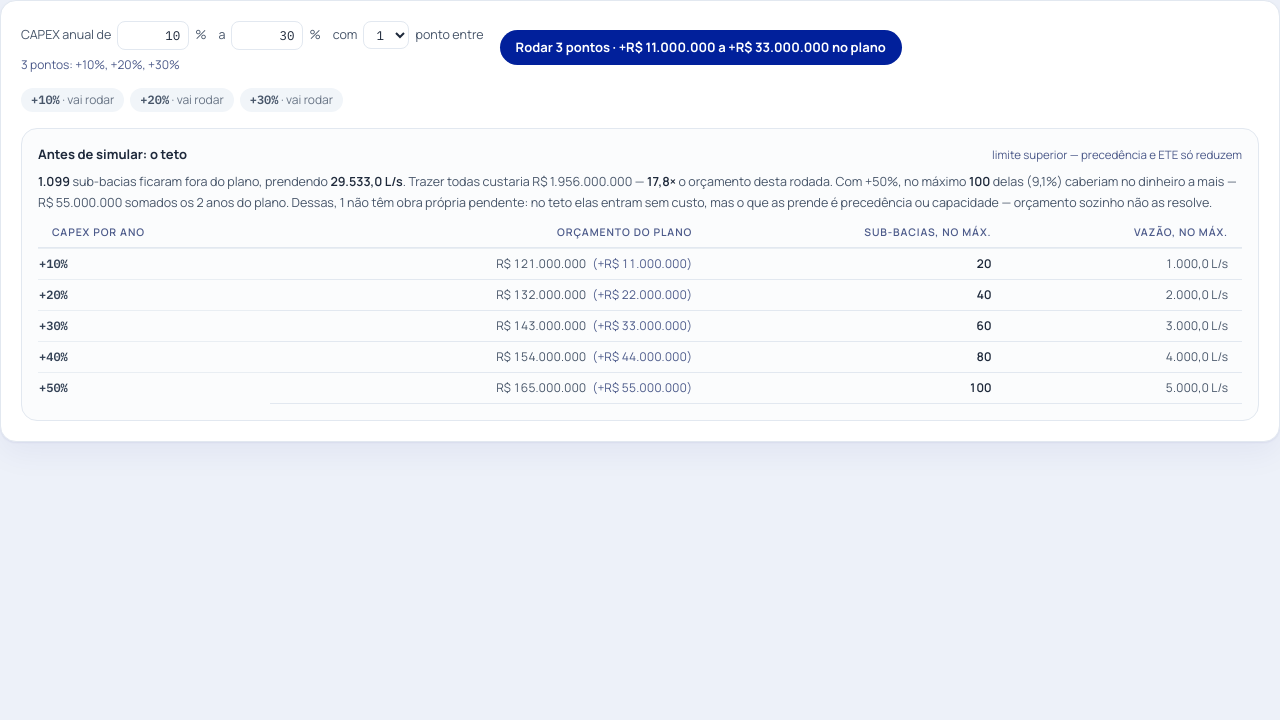
it: a variação que pertence a outra curva › o botão só volta depois que a curva soube dos pedidos
The width and height of the screenshot is (1280, 720).
Step 1. Click the button "Rodar 3 pontos · +R$ 11.000.000 a +R$ 33.000.000 no plano" → (701, 47), box [500, 30, 902, 65]
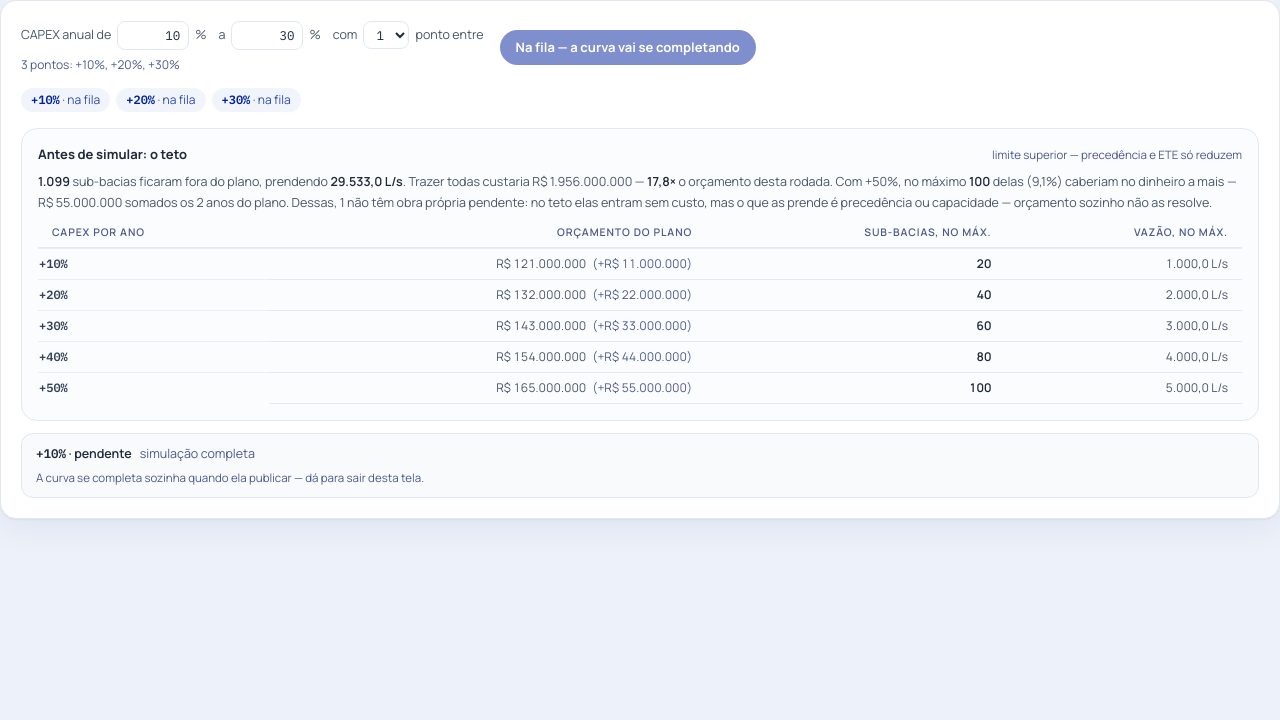
Result: the button "Na fila — a curva vai se completando" is disabled at [500, 30, 756, 65]
